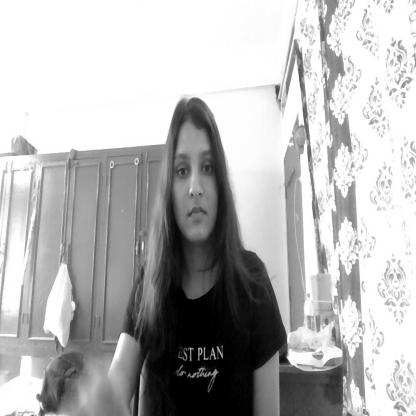Normal: (163, 98, 227, 255)
